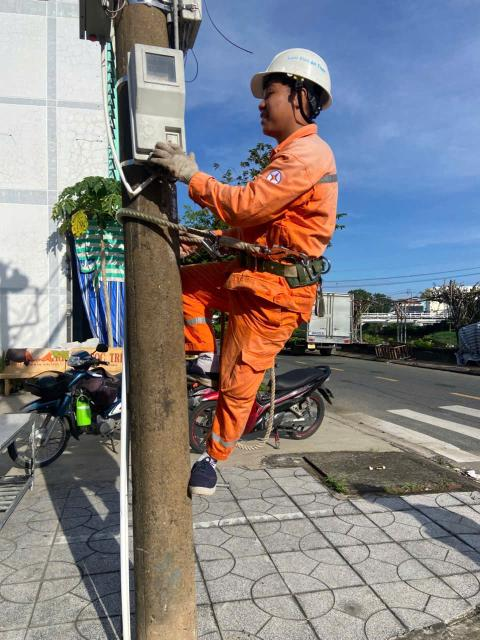gloves: (147, 134, 213, 204), (164, 224, 223, 254)
helmet: (248, 41, 332, 105)
shoes: (156, 333, 237, 397), (181, 452, 242, 526)
